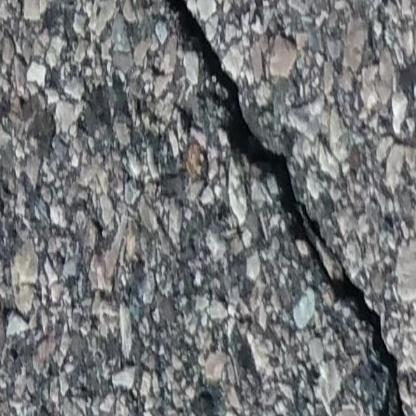Cracks: (152, 0, 416, 416)
